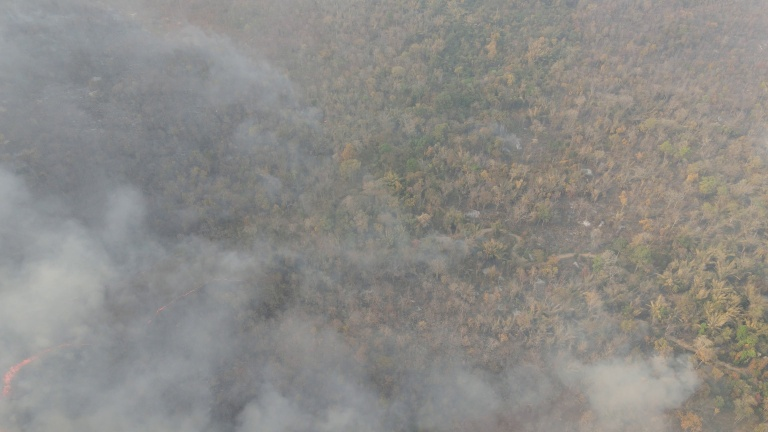fire: (3, 340, 80, 424), (149, 284, 201, 323)
smoke: (2, 202, 161, 423), (183, 33, 316, 137), (563, 354, 687, 420)
